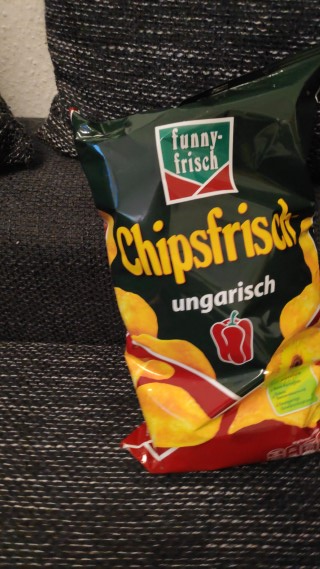chipsfrisch: (66, 41, 320, 478)
